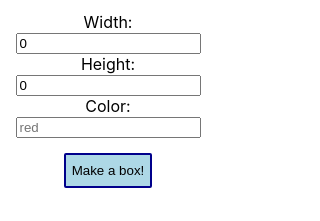
Test: shows error when fields are not filled
The image size is (320, 221).
Click the button "Make a box!" at coordinates (108, 170), box top-left (64, 153), bottom-right (152, 188)
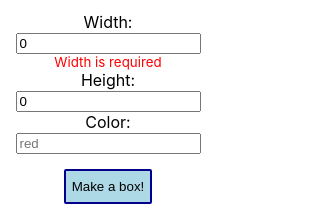
Expected: the text "Width is required" is shown, top-left (54, 54), bottom-right (162, 70)
